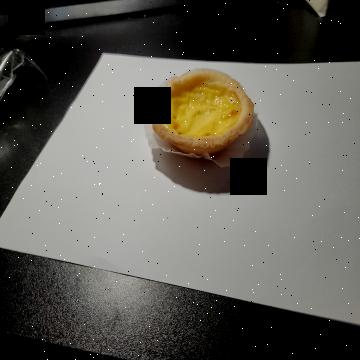EggTart: (148, 68, 255, 156)
